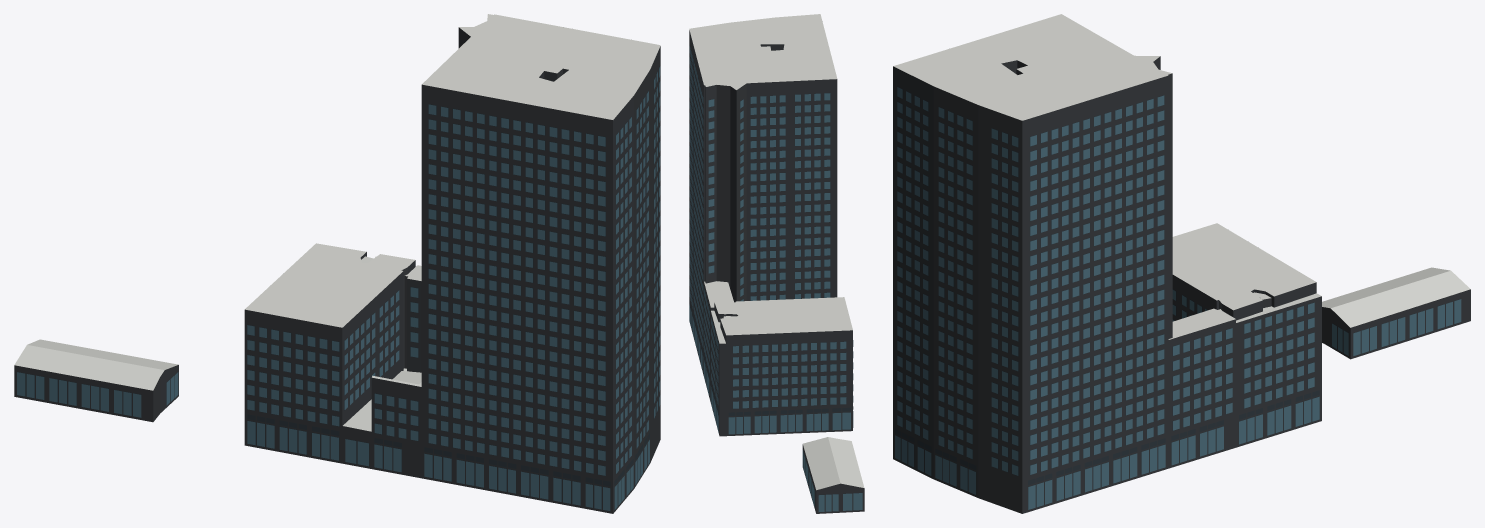
The model's file is bercylaan-801-855.glb.
The picture shows the model from 3 angles, left to right: view 1: azimuth 30°, elevation 25°; view 2: azimuth 150°, elevation 25°; view 3: azimuth 270°, elevation 25°; orthographic projection. The views are drawn at different scales.
Visible parts, largest first — view 1: bercylaan-801-855; view 2: bercylaan-801-855; view 3: bercylaan-801-855.
Part boxes in pixels (x1,y1,x2,y2): bercylaan-801-855: (14,14,660,513); bercylaan-801-855: (689,14,864,513); bercylaan-801-855: (893,14,1470,513).
Size of the model in its own units: 92.63 by 78.98 by 105.
